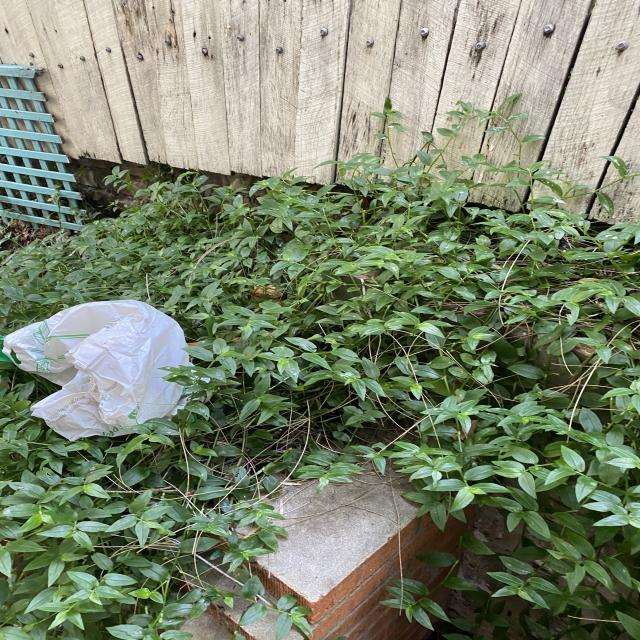bag: (0, 295, 207, 444)
